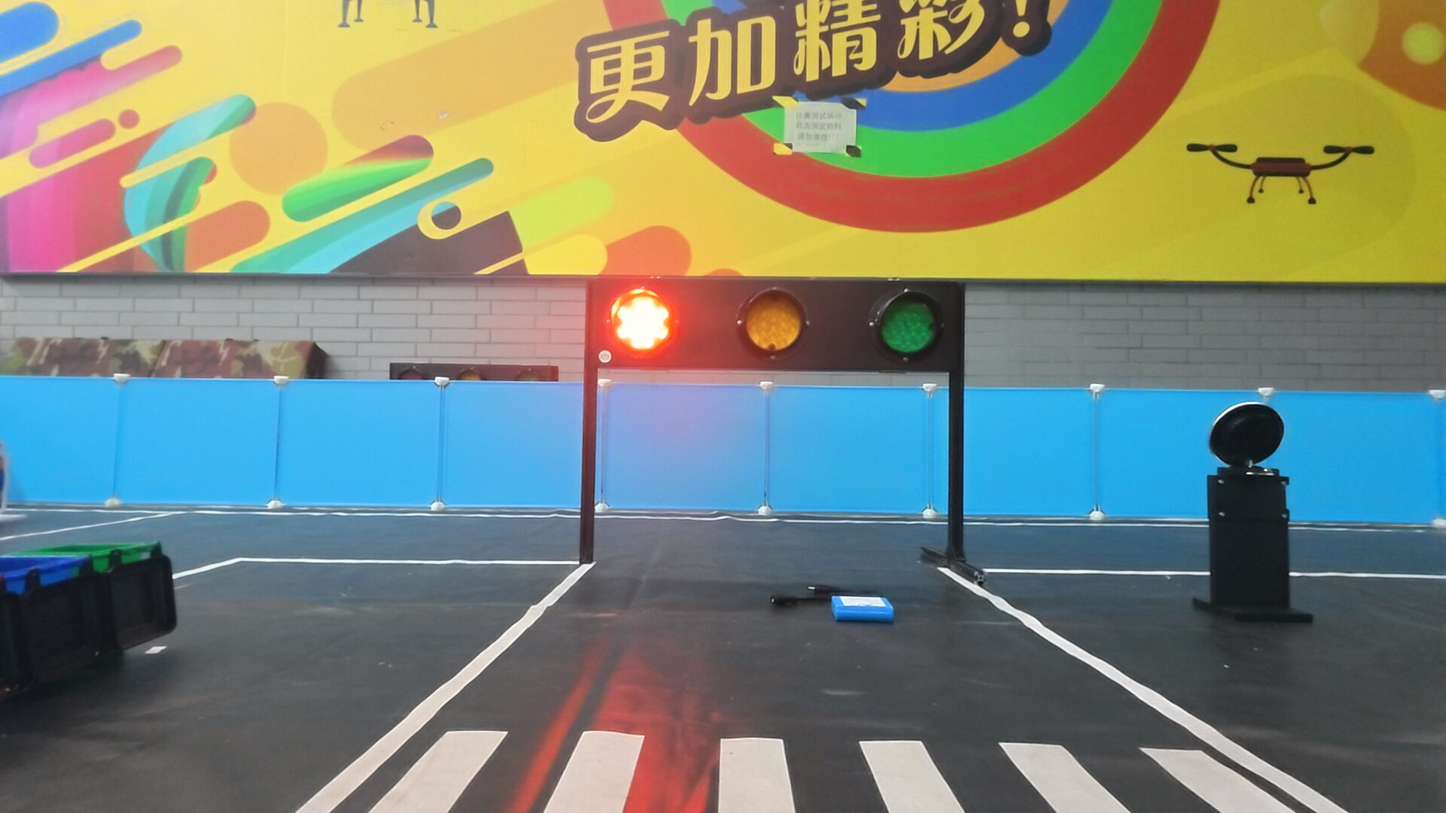stop: (607, 285, 676, 355)
